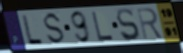9: (69, 10, 92, 45)
L: (90, 11, 115, 42), (21, 14, 45, 46)
R: (135, 6, 165, 41)
S: (115, 7, 142, 43), (43, 11, 67, 46)
